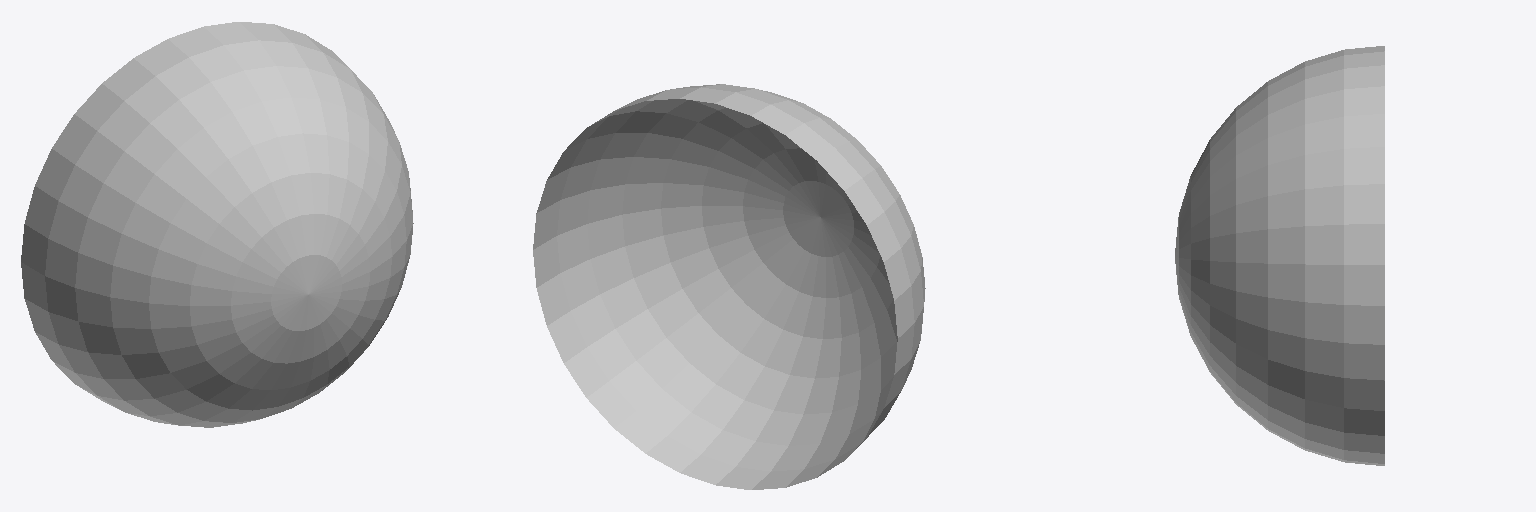
The model's file is dome.obj.
The picture shows the model from 3 angles: view 1: azimuth 30°, elevation 25°; view 2: azimuth 150°, elevation 25°; view 3: azimuth 270°, elevation 25°; orthographic projection.
Parts seen in each view (by area): view 1: Sphere; view 2: Sphere; view 3: Sphere.
Part boxes in pixels (x1,y1,x2,y2): Sphere: (21,22,413,427); Sphere: (533,84,925,489); Sphere: (1175,46,1384,465).
Bounding box in the file's own units: 2 × 2 × 1.